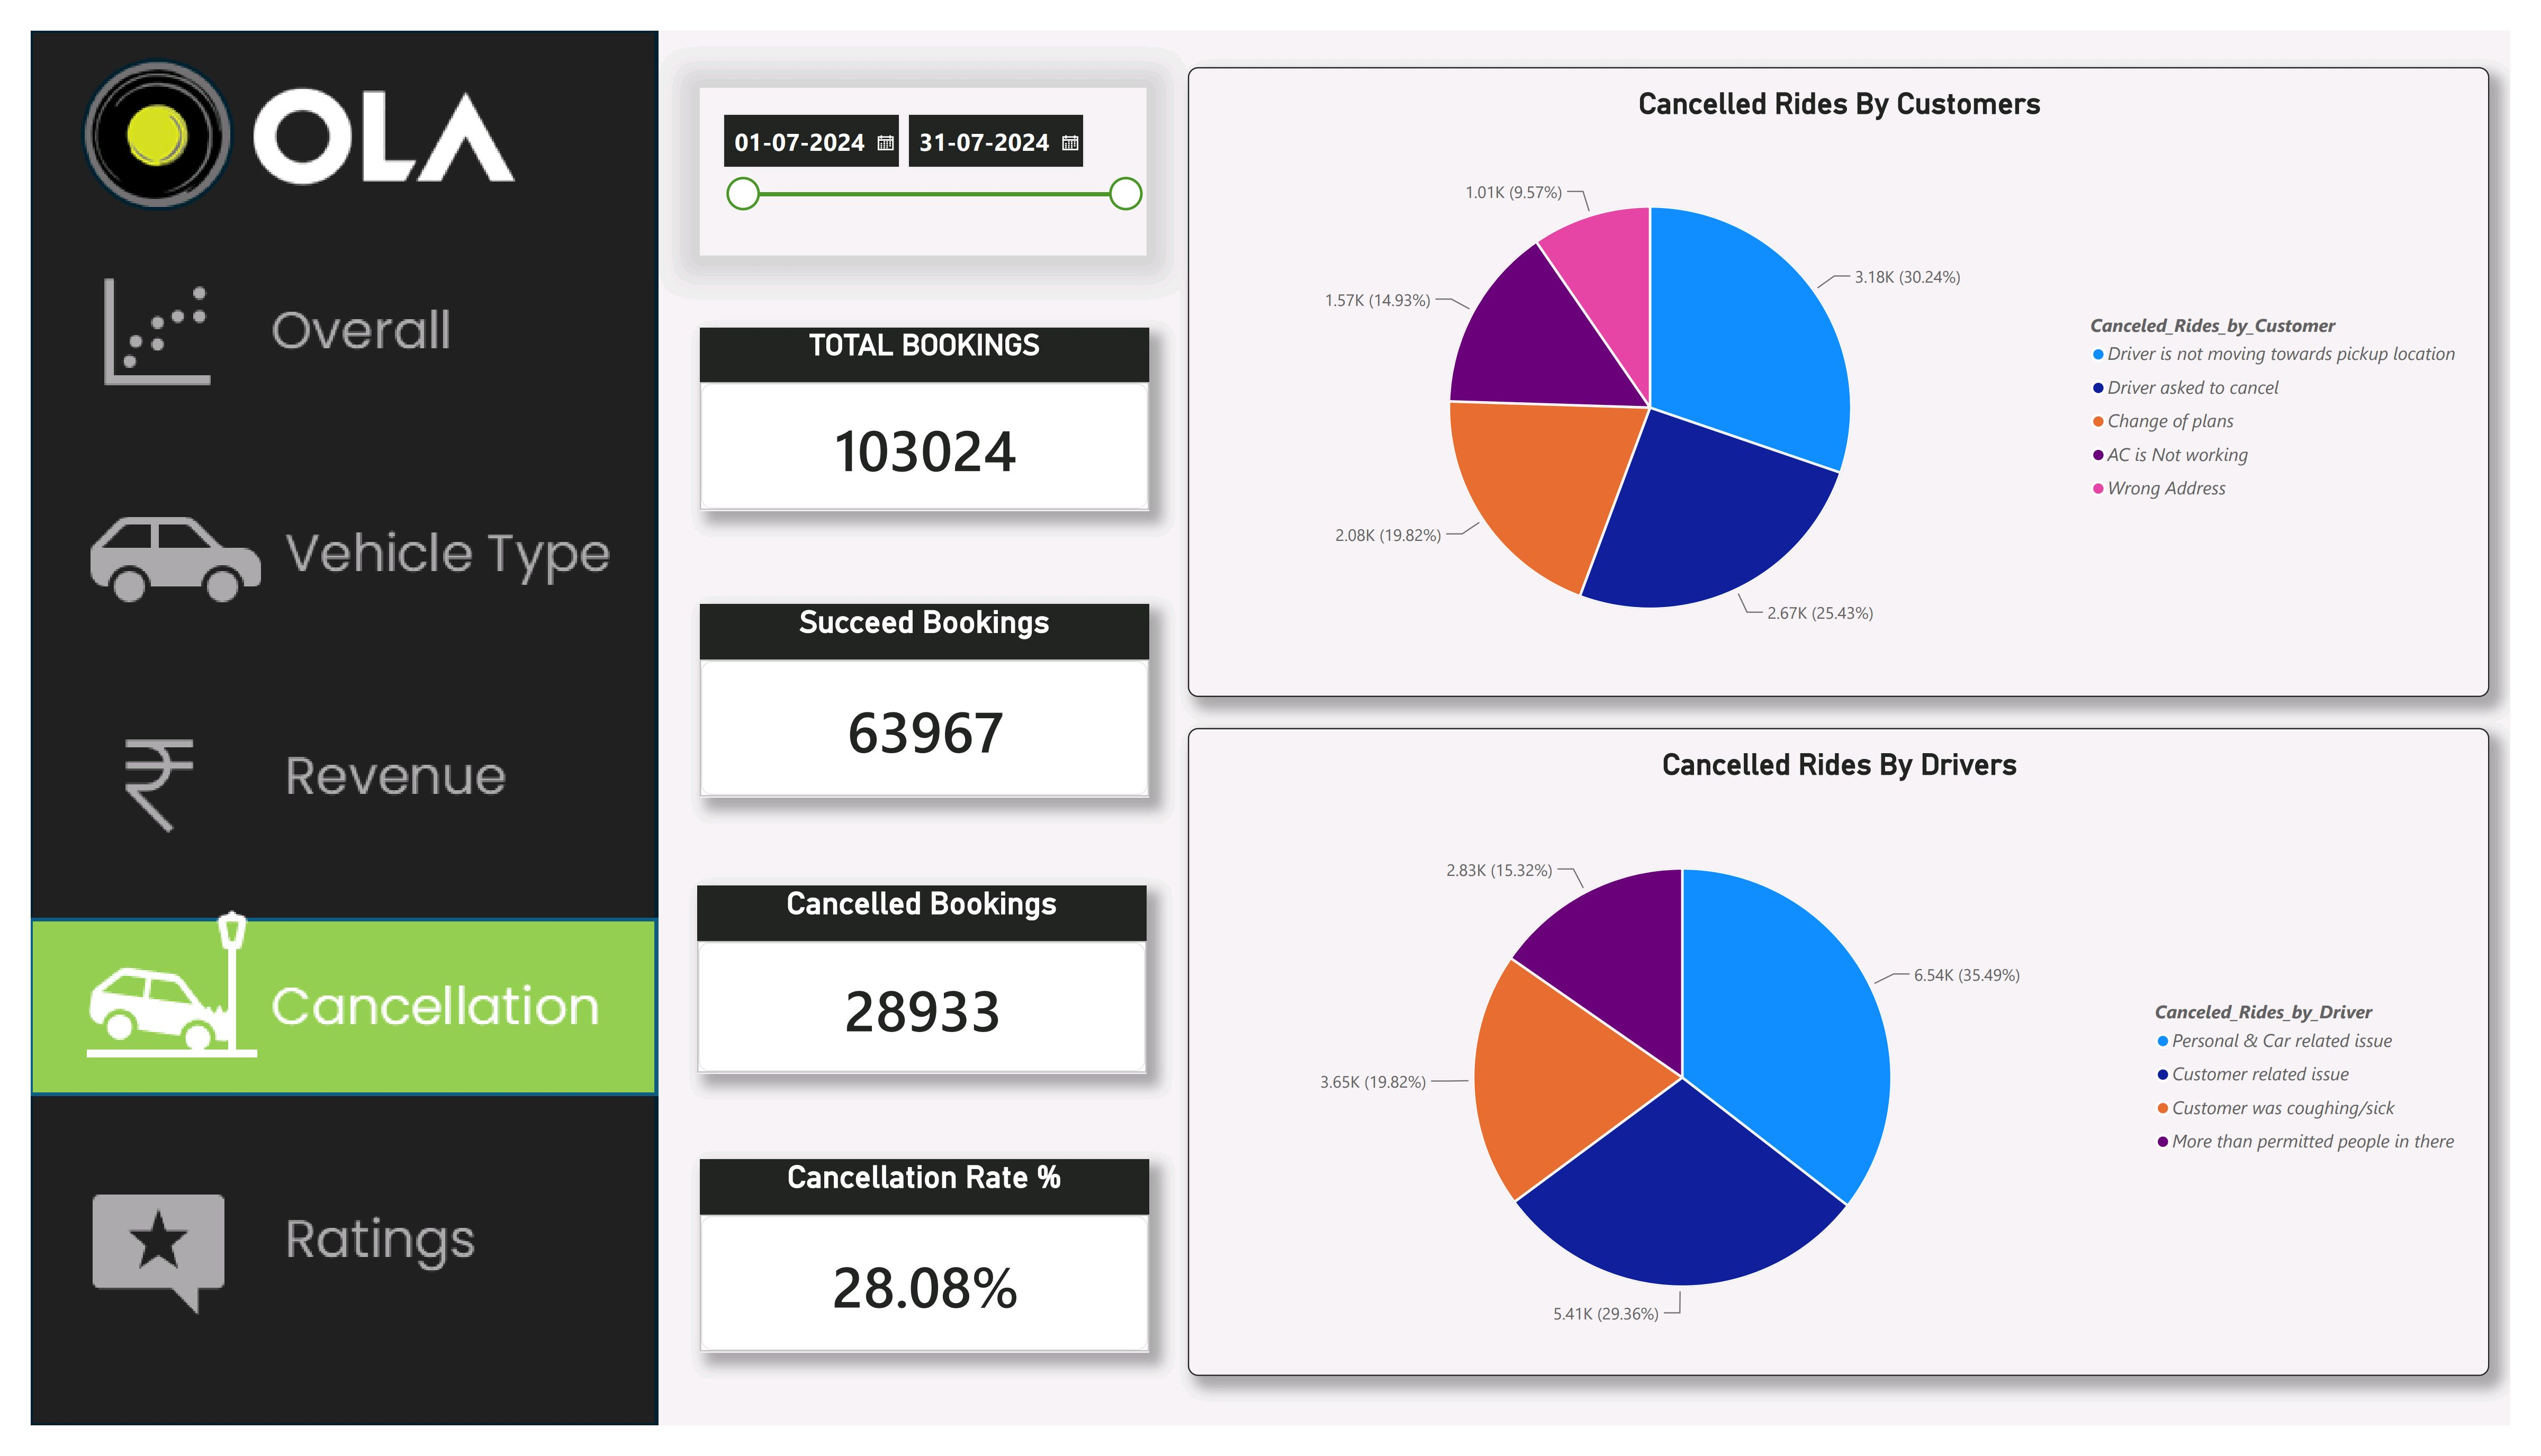

Layout of this report page (visuals, bound fields, positions):
{"tool":"powerbi","page":{"name":"Cancellation","canvas":[1920,1080],"ordinal":3},"visuals":[{"type":"actionButton","box":[0,173.9,487,128.3],"z":0},{"type":"actionButton","box":[0,343.5,487,128.3],"z":1000},{"type":"actionButton","box":[0,515.2,487,128.3],"z":2000},{"type":"actionButton","box":[0,873.9,487,128.3],"z":3000},{"type":"pieChart","title":" Cancelled Rides By Customers","fields":{"Category":["Bookings.Canceled_Rides_by_Customer"],"Y":["CountNonNull(Bookings.Canceled_Rides_by_Customer)"]},"box":[896,28,1008,488],"z":4000},{"type":"pieChart","title":" Cancelled Rides By Drivers","fields":{"Category":["Bookings.Canceled_Rides_by_Driver"],"Y":["CountNonNull(Bookings.Canceled_Rides_by_Driver)"]},"box":[896,540,1008,502],"z":5000},{"type":"slicer","title":"DATE","fields":{"Values":["Bookings.Date"]},"box":[518,44,346,130],"z":6000},{"type":"cardVisual","title":"TOTAL BOOKINGS","fields":{"Data":["Count(Bookings.Booking_ID)"]},"box":[518,230,348,142],"z":7000},{"type":"cardVisual","title":"Succeed Bookings","fields":{"Data":["Count(Bookings.Booking_ID)"]},"box":[518,444,348,150],"z":8000},{"type":"cardVisual","title":"Cancelled Bookings","fields":{"Data":["Count(Bookings.Booking_ID)"]},"box":[516,662,348,146],"z":9000},{"type":"cardVisual","title":"Cancellation Rate %","fields":{"Data":["Bookings.CanceledPercentage"]},"box":[518,874,348,150],"z":10000}]}

Visuals, with their boxes in screenshot pixels (x1, y1, x2, y2), scaled from the page's 1920x1080 canvas onto the 2541x1456 screenshot:
actionButton: 0 234 645 408
actionButton: 0 463 645 636
actionButton: 0 694 645 867
actionButton: 0 1178 645 1351
" Cancelled Rides By Customers" pieChart: 1186 38 2520 695
" Cancelled Rides By Drivers" pieChart: 1186 728 2520 1405
"DATE" slicer: 686 59 1143 234
"TOTAL BOOKINGS" cardVisual: 686 310 1146 502
"Succeed Bookings" cardVisual: 686 599 1146 801
"Cancelled Bookings" cardVisual: 683 892 1143 1089
"Cancellation Rate %" cardVisual: 686 1178 1146 1380
